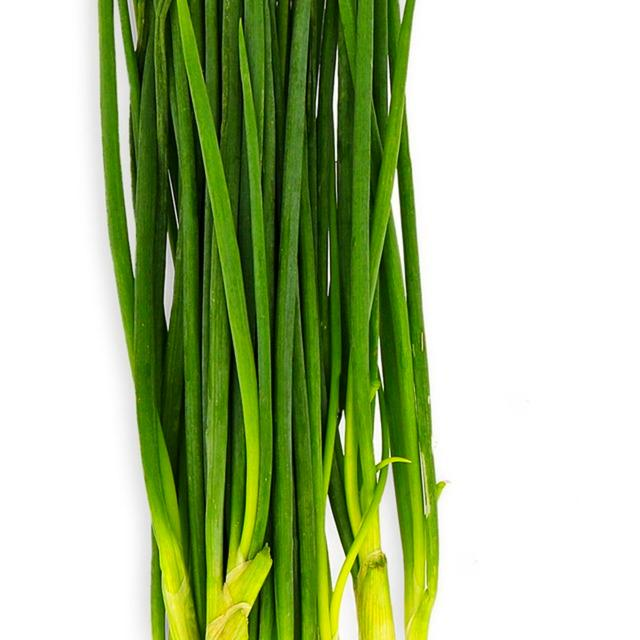green_onion: (18, 0, 585, 640)
